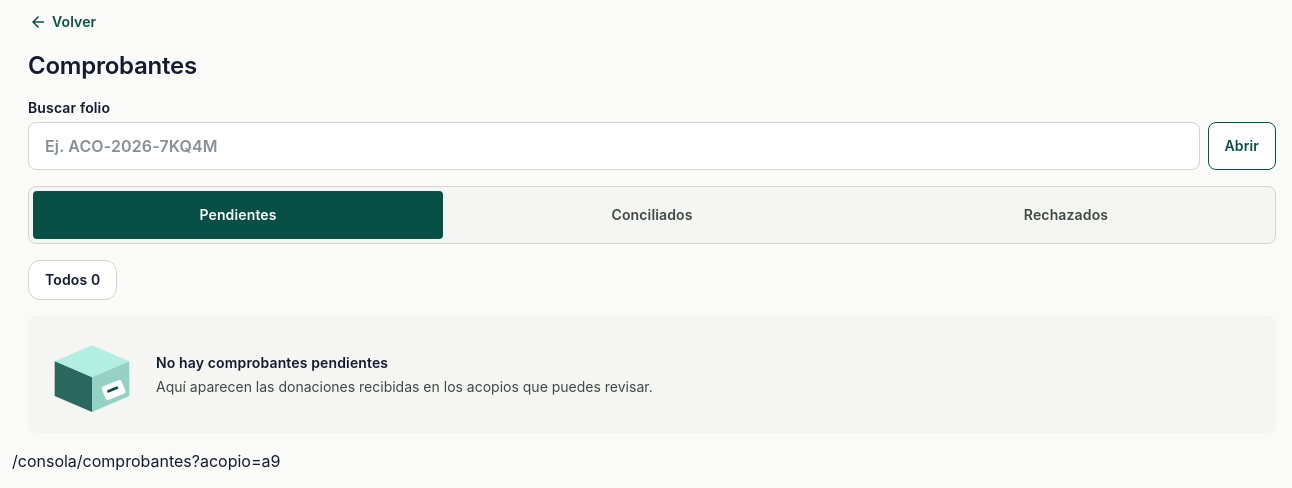
con un acopio filtrado sin pendientes, «Todos» sigue a la vista y quita el filtro
Click the button "Todos 0": (73, 280) [28,260,117,300]
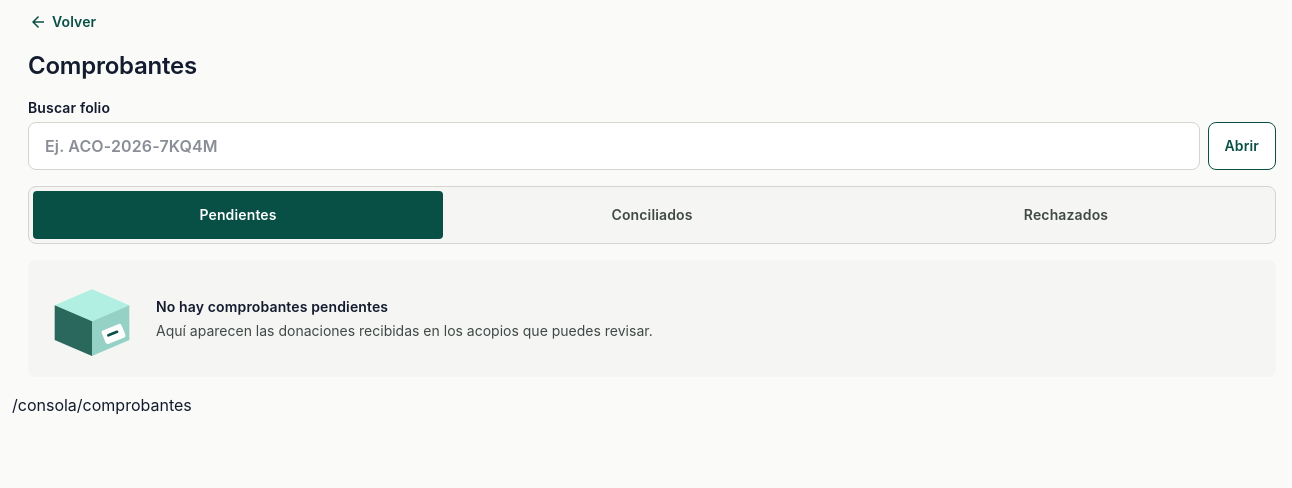
Check: the text named "Ubicación" reads "/consola/comprobantes", box [12,395,192,415]
